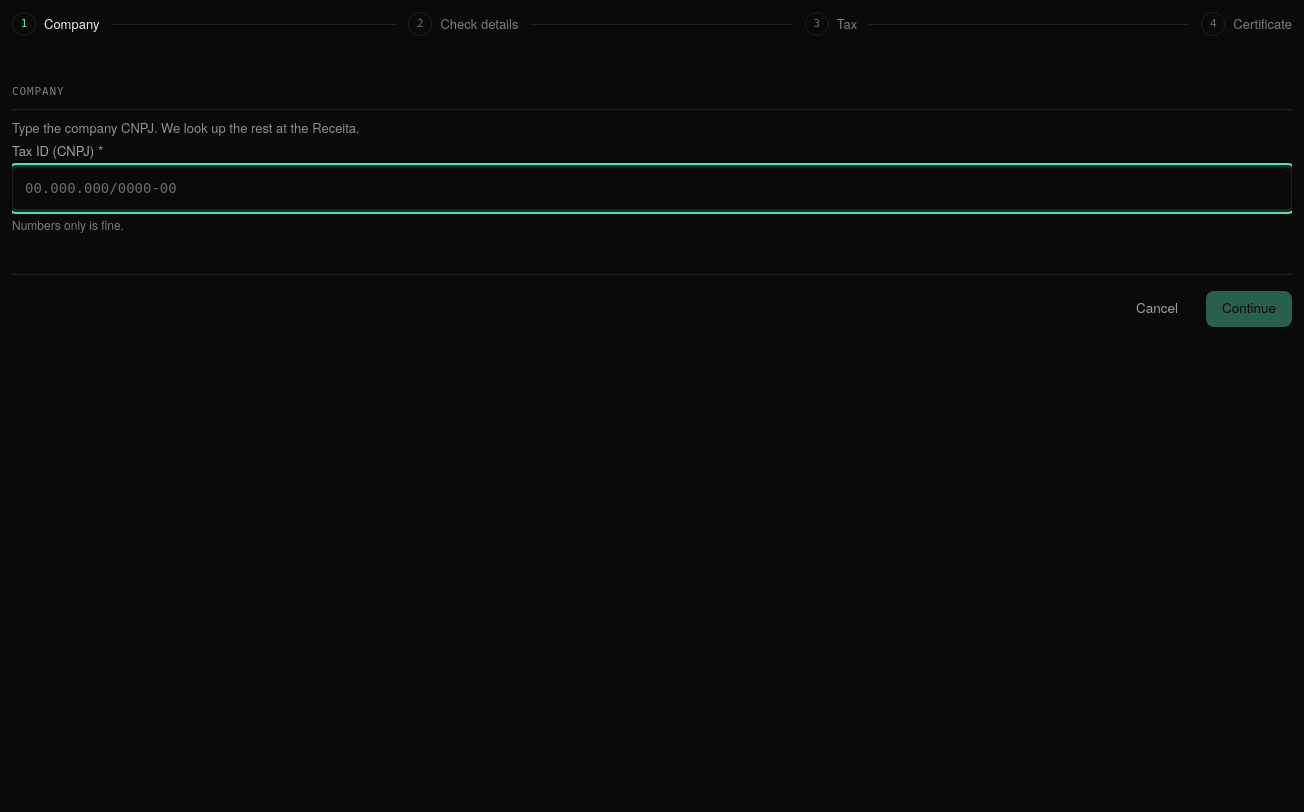
Test: CompanyForm starts with the CNPJ › lets the person type the company by hand when the Receita is down
The width and height of the screenshot is (1304, 812).
Type "11222333000181" into the field labelled "Tax ID (CNPJ)*" at x=652, y=188, box [12,166,1292,210]
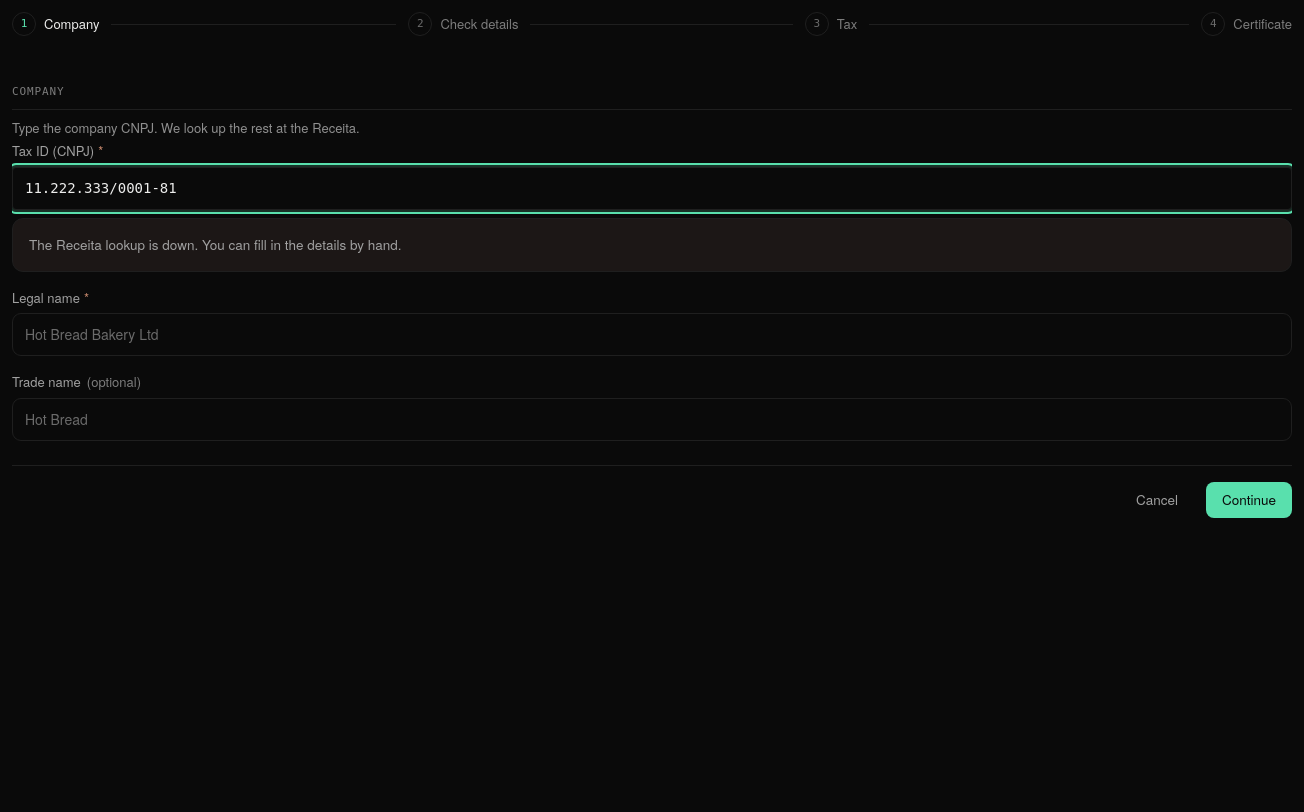
Expected: the text "The Receita lookup is down. You can fill in the details by hand." is shown, [12,218,1292,272]
Expected: the button "Continue" is enabled
Click the button "Continue" at x=1249, y=500, box [1206,482,1292,518]
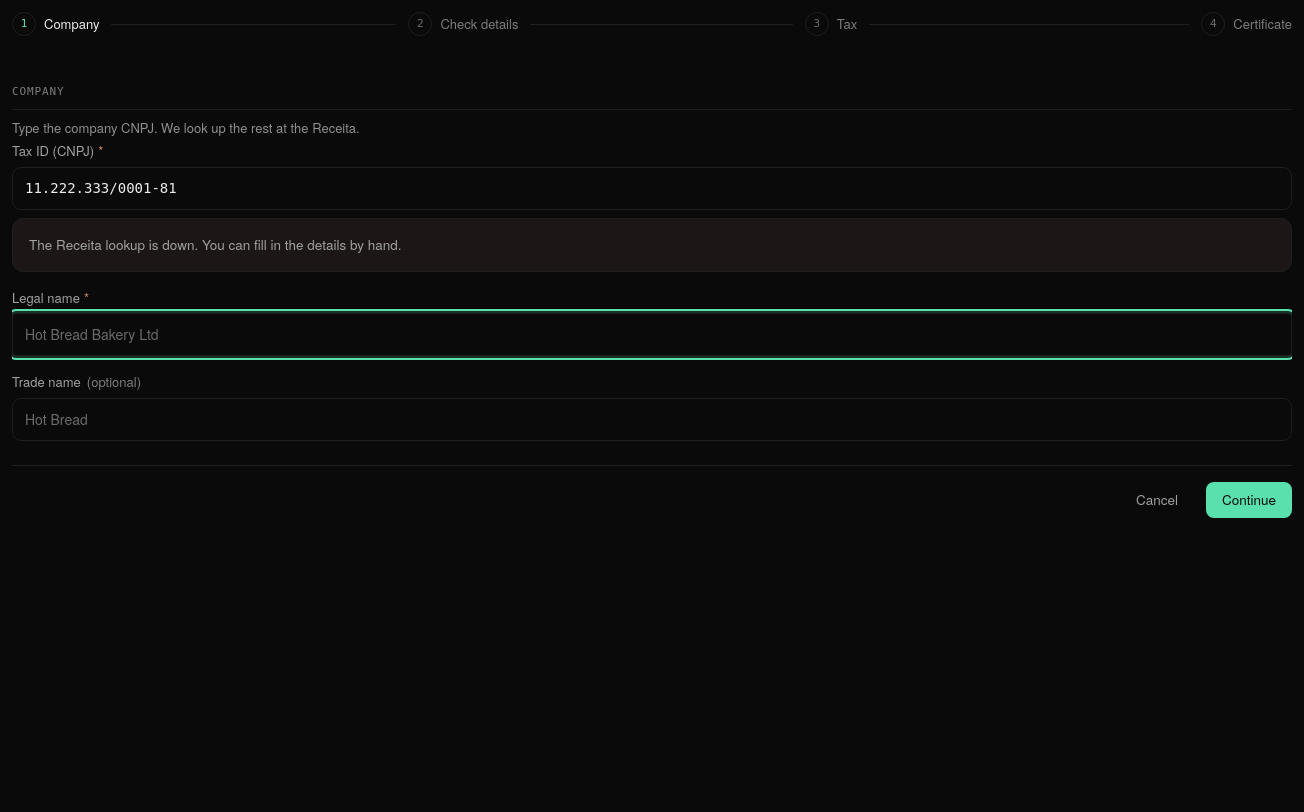
Expected: the field labelled "street" is not shown
Type "Minha Empresa" into the field labelled "Legal name*" at x=652, y=335, box [12,313,1292,356]
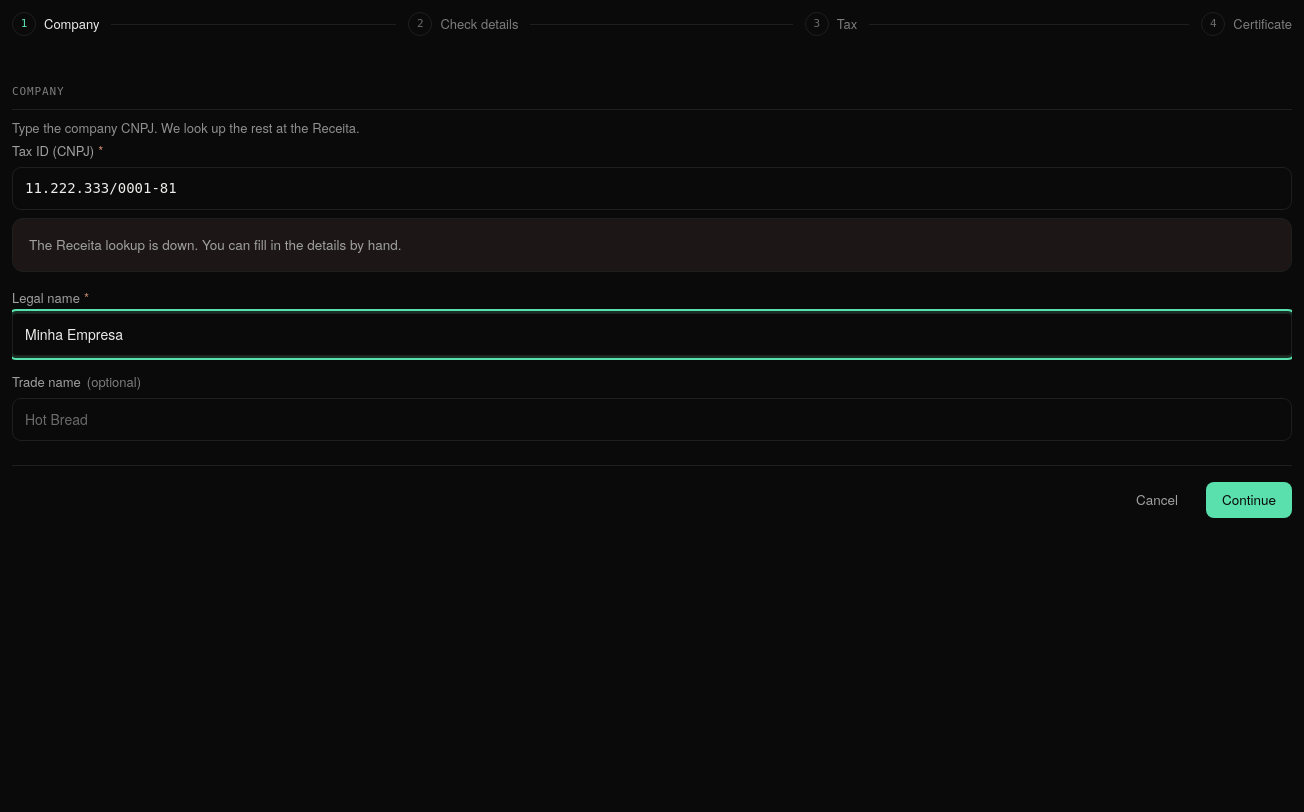
Click the button "Continue" at x=1249, y=500, box [1206,482,1292,518]
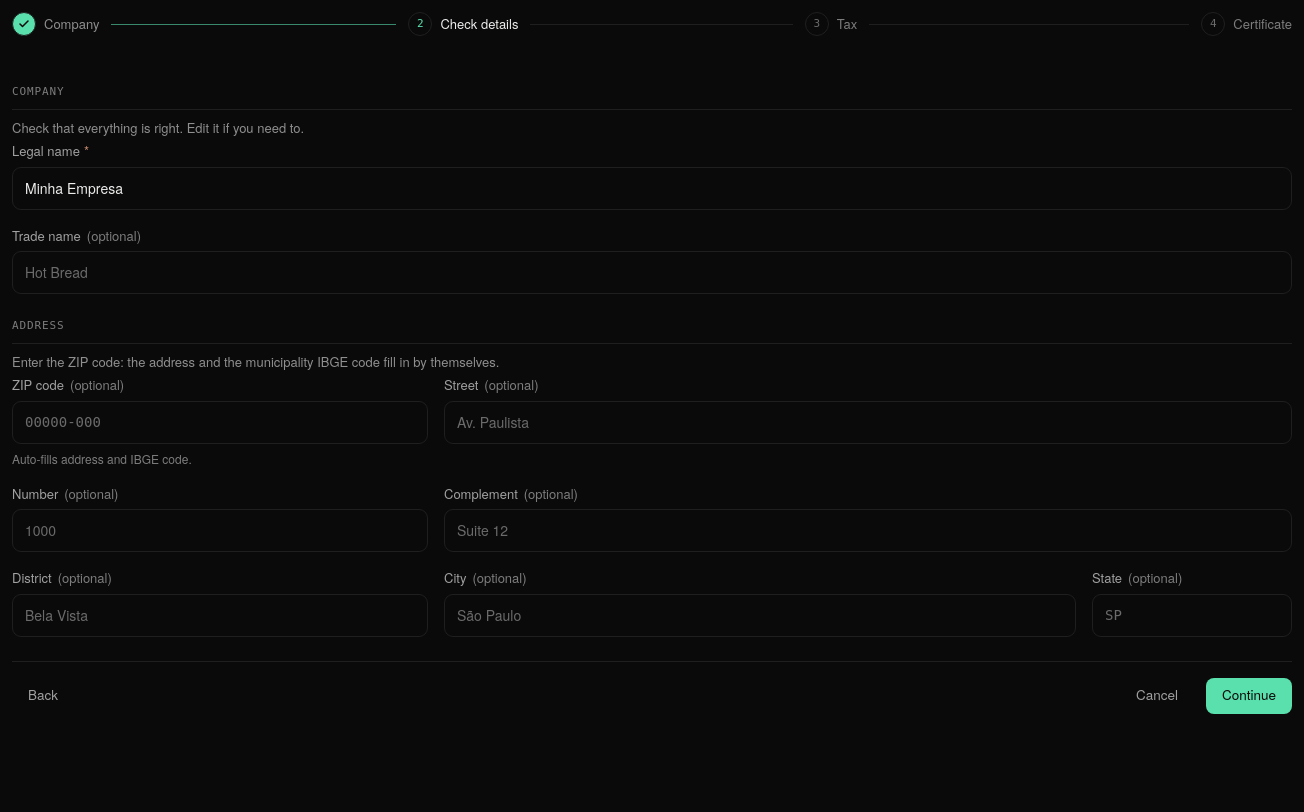
Expected: the field labelled "Legal name*" holds "Minha Empresa", [12,166,1292,210]
Expected: the field labelled "Street(optional)" is shown, [444,400,1292,444]
Click the button "Continue" at x=1249, y=696, box [1206,678,1292,714]
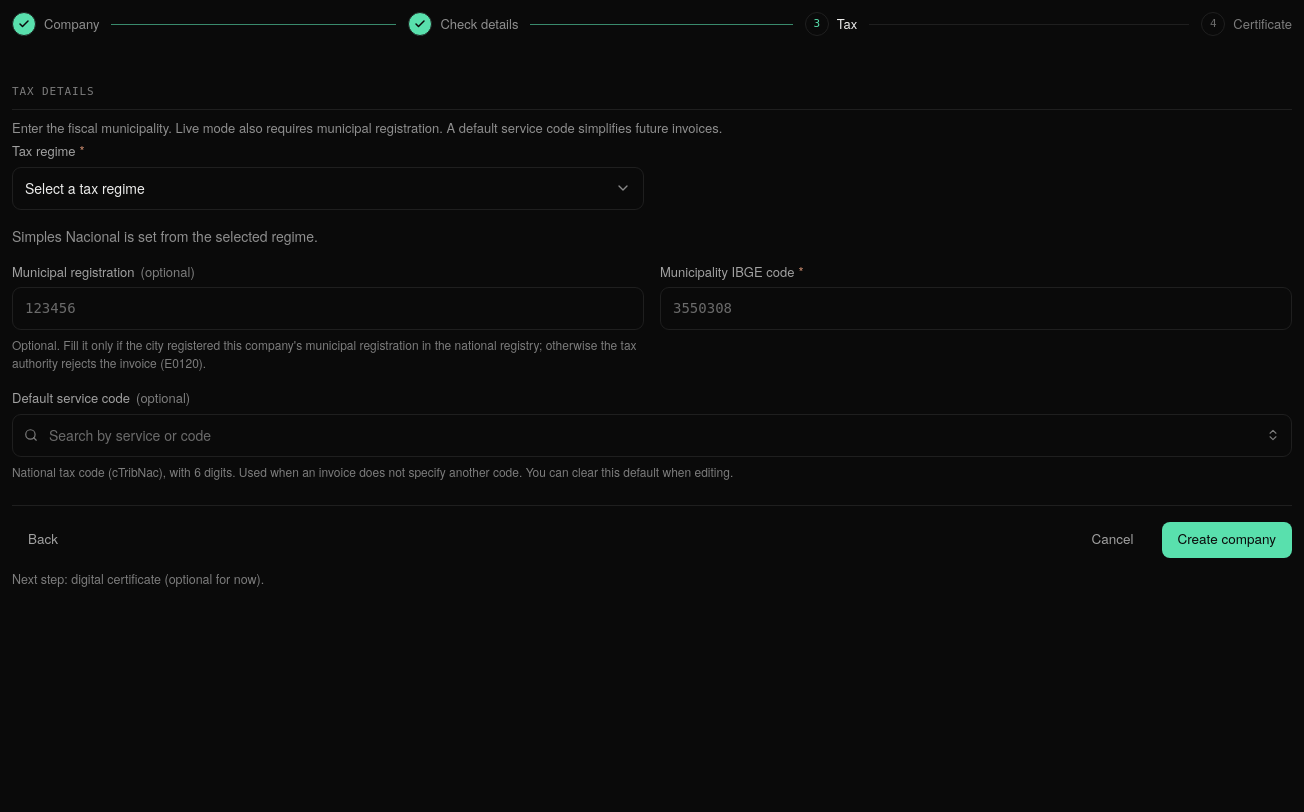
Expected: the dropdown labelled "Tax regime*" is shown, [12,166,644,210]
